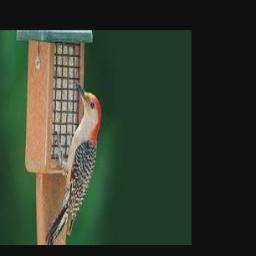Woodpecker: (46, 80, 101, 243)
